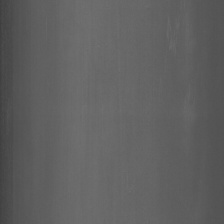silk_spot: (161, 14, 191, 68)
